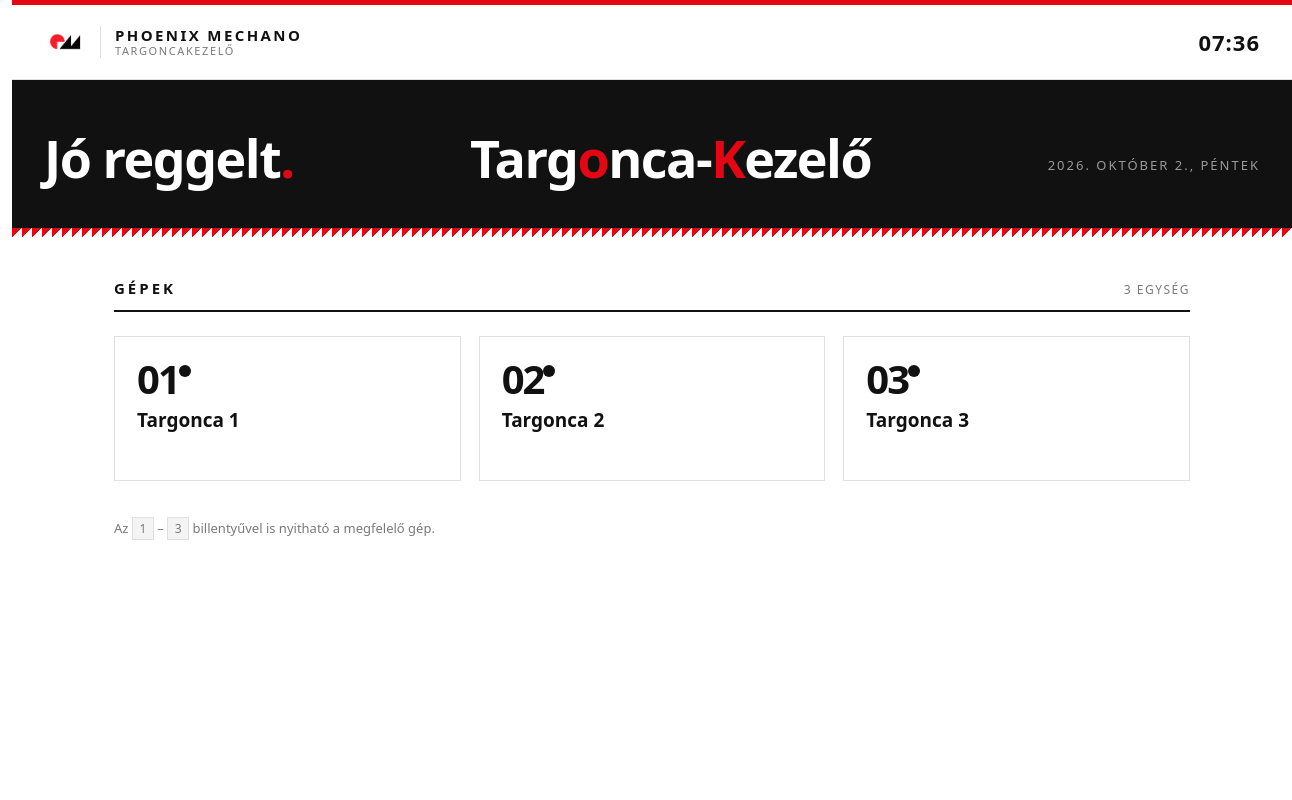
Test: kattintasra megnyitja a gep oldalat
Step 1. Click the text "Targonca 2" → (553, 420), box x1=502 y1=407 x2=604 y2=433
(page scrolled)
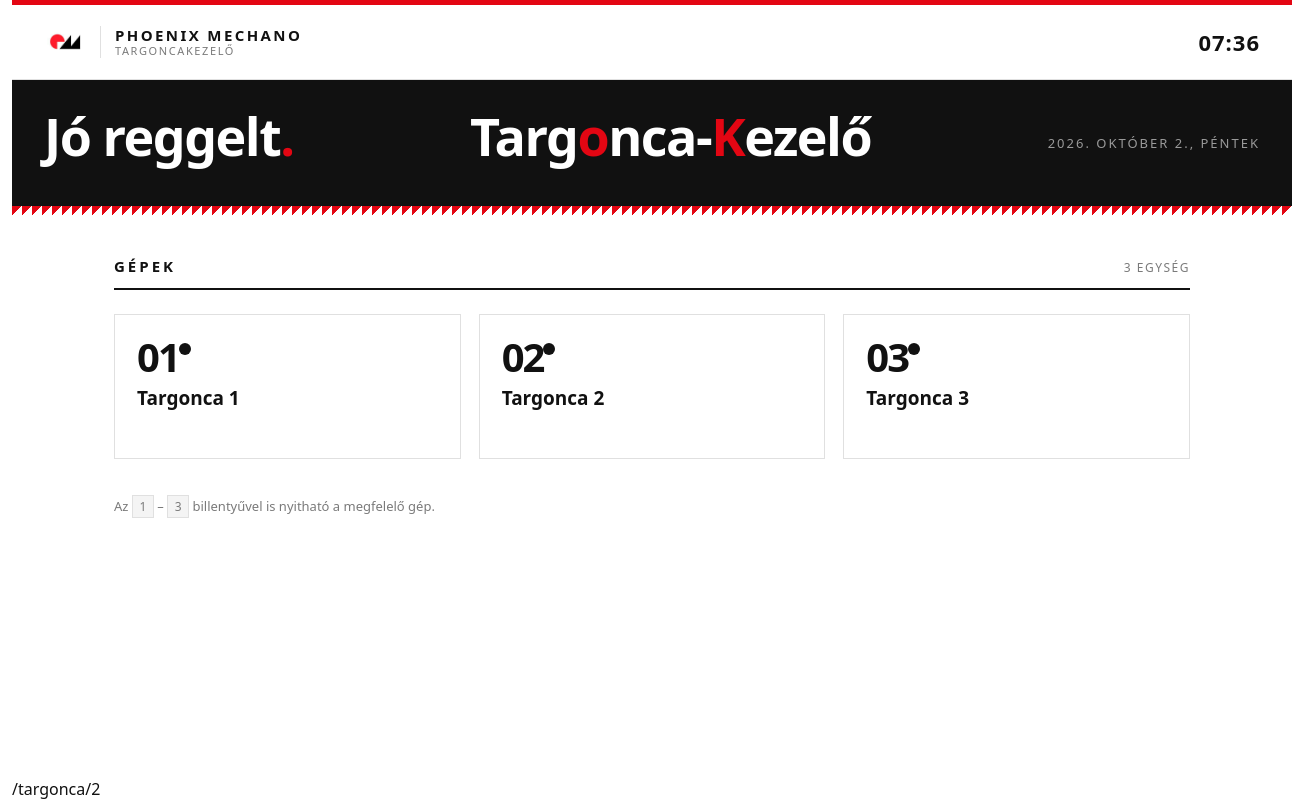
Result: the text with test id "cim" reads "/targonca/2" at x1=12 y1=778 x2=100 y2=799
